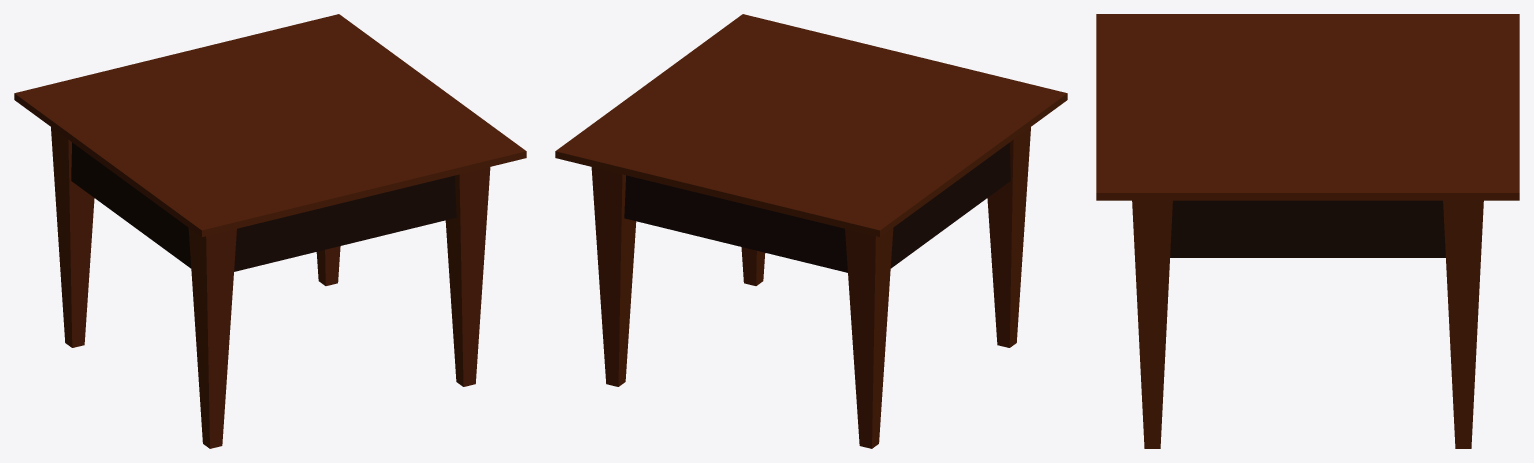
Rendered from mesa.obj.
3 renders of one model, left to right at view 1: azimuth 30°, elevation 25°; view 2: azimuth 150°, elevation 25°; view 3: azimuth 270°, elevation 25°, orthographic. The views are drawn at different scales.
Parts seen in each view (by area): view 1: Cubo; view 2: Cubo; view 3: Cubo.
Part boxes in pixels (left/top/right/bottom): Cubo: left=14, top=14, right=526, bottom=448; Cubo: left=555, top=14, right=1067, bottom=448; Cubo: left=1096, top=14, right=1519, bottom=448.
Bounding box in the file's own units: 1 × 0.71 × 1.
